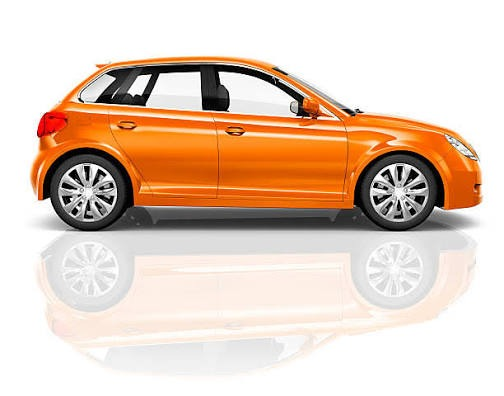car: (9, 64, 491, 379), (38, 53, 481, 231)
